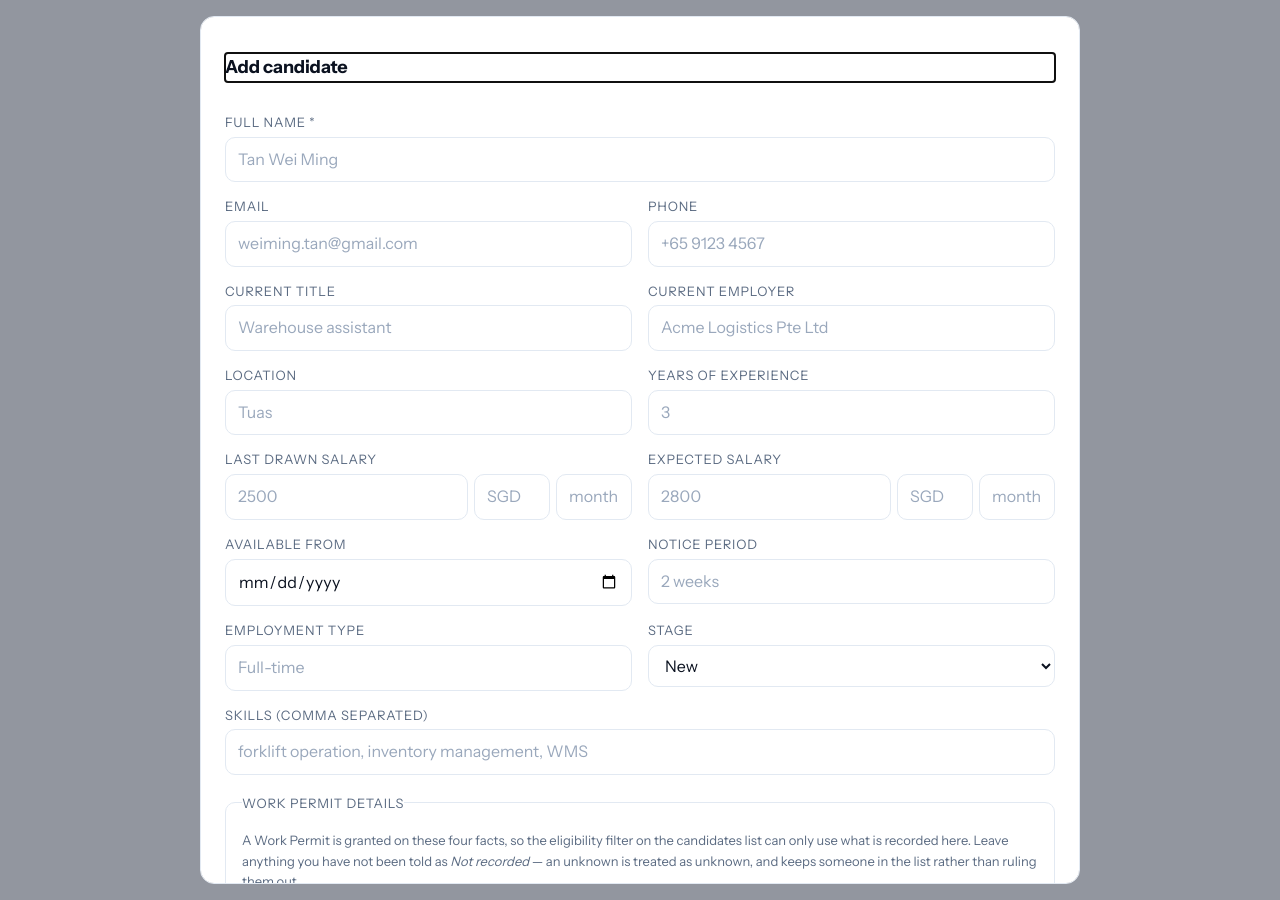
Scenario: a candidate a colleague already holds › still shows an ordinary 409 as an ordinary message
The width and height of the screenshot is (1280, 900).
In the field labelled "Full name *": x=640, y=159 [225, 137, 1055, 182], type "Someone Else"
(page scrolled)
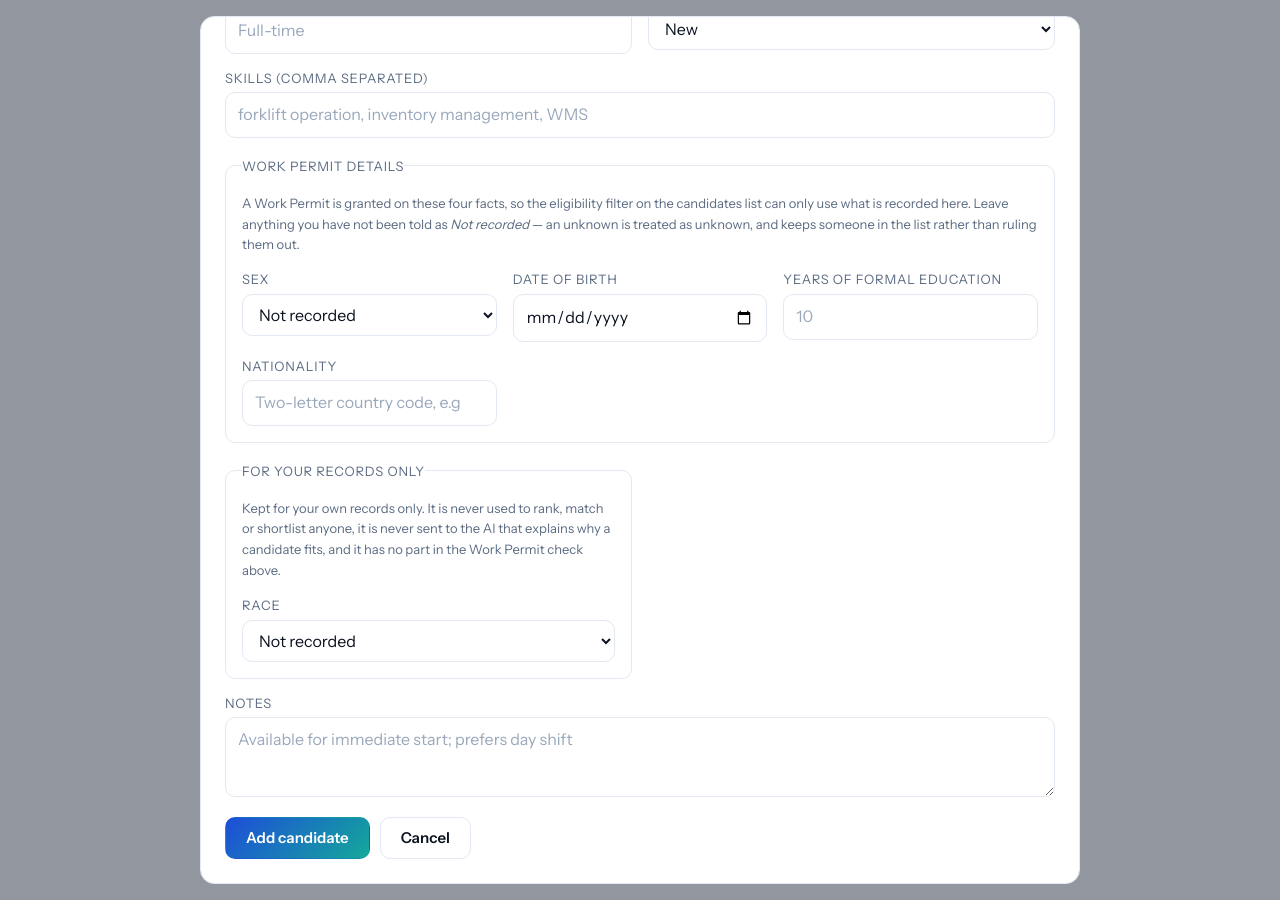
Click the button "Add candidate": x=297, y=838 [225, 818, 370, 860]
(page scrolled)
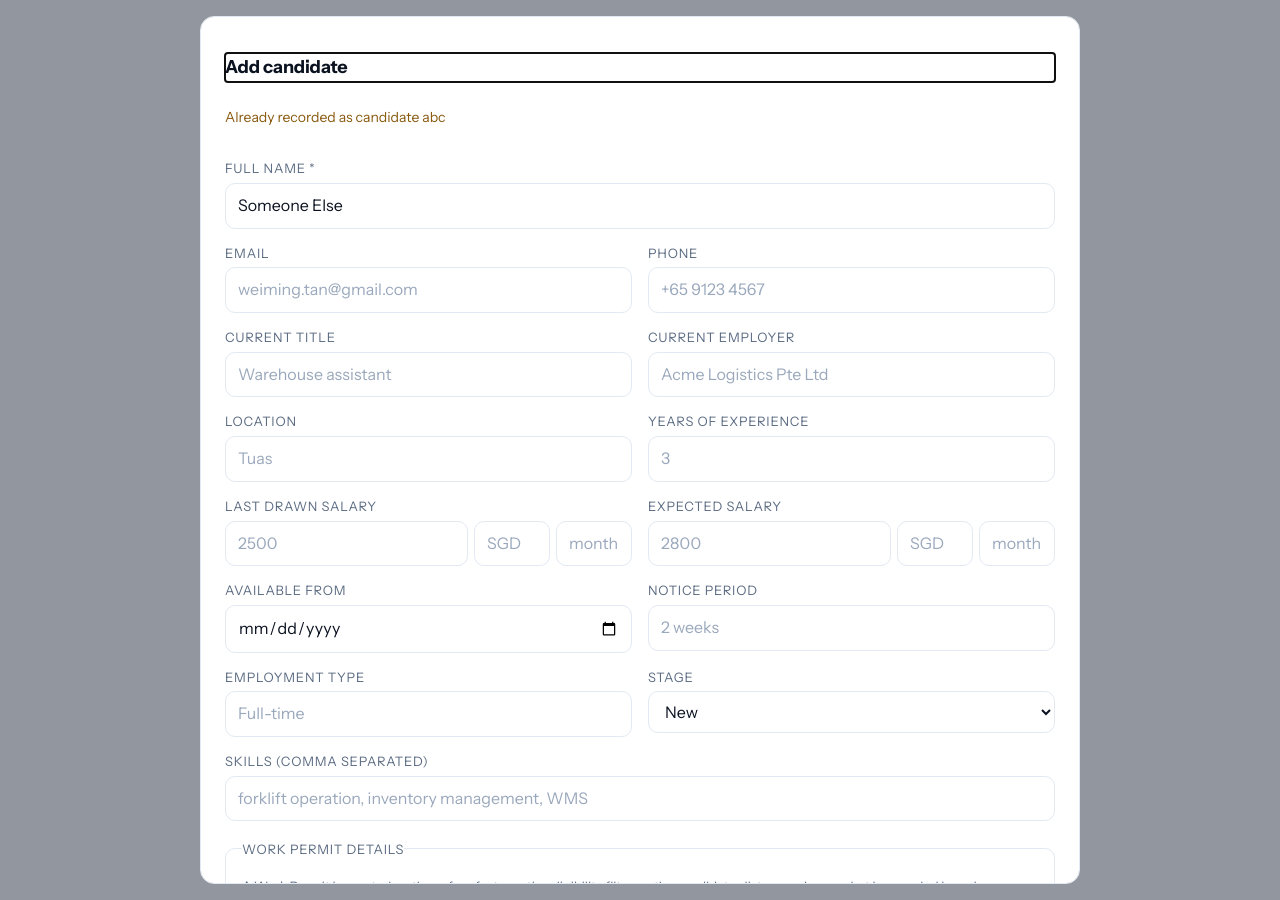
expect the message shows "Already recorded": met, box [225, 108, 446, 126]
